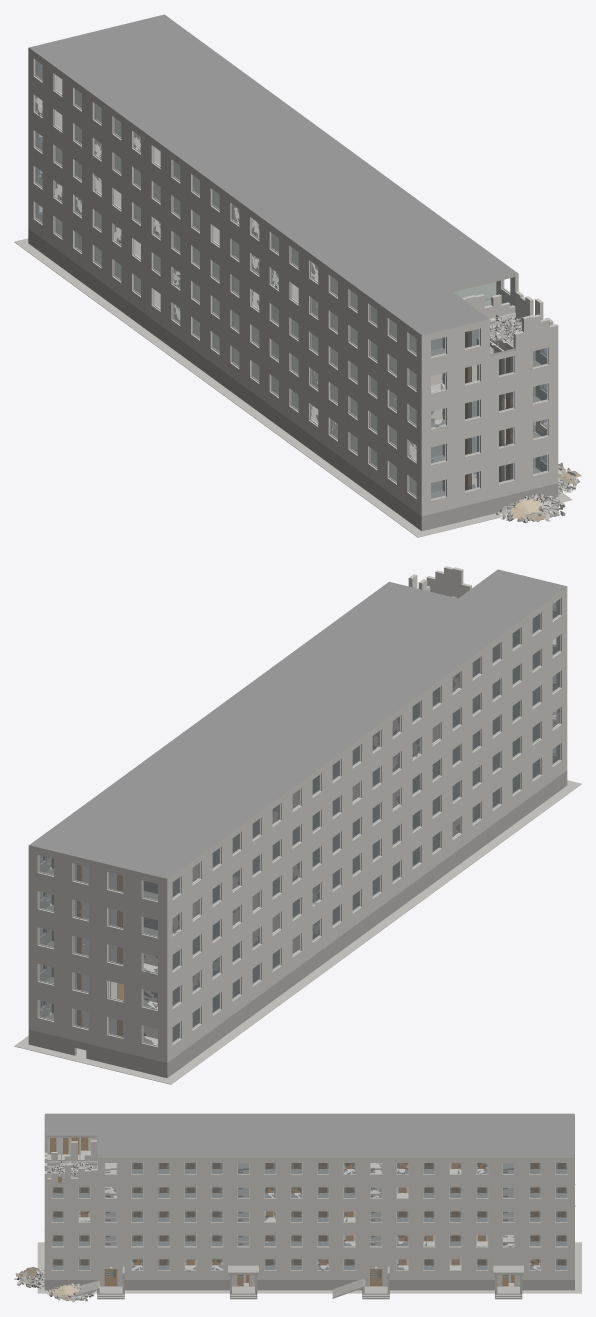
3 views of the same model, one above another, from view 1: azimuth 30°, elevation 25°; view 2: azimuth 150°, elevation 25°; view 3: azimuth 270°, elevation 25° (orthographic). The views are drawn at different scales.
Visible parts, largest first — view 1: b5_slab_f05__roof, b5_outer_f04__facade_panel, b5_outer_f02__facade_panel, b5_outer_f01__facade_panel, b5_outer_f03__facade_panel, b5_outer_f00__facade_panel, b5_outer_f00__plinth, b5_apron_f00, b5_glass_f00, b5_glass_f02, b5_glass_f01, b5_glass_f04 (+14 smaller); view 2: b5_slab_f05__roof, b5_outer_f04__facade_panel, b5_outer_f02__facade_panel, b5_outer_f01__facade_panel, b5_outer_f00__facade_panel, b5_outer_f03__facade_panel, b5_outer_f00__plinth, b5_apron_f00, b5_glass_f04, b5_glass_f00, b5_glass_f02, b5_glass_f03 (+12 smaller); view 3: b5_slab_f05__roof, b5_outer_f04__facade_panel, b5_outer_f00__facade_panel, b5_outer_f02__facade_panel, b5_outer_f03__facade_panel, b5_outer_f01__facade_panel, b5_outer_f00__plinth, b5_glass_f02, b5_glass_f03, b5_apron_f00, b5_glass_f01, b5_porch_f00__monolith (+26 smaller).
Part boxes in pixels (box(x1,y1,x2,y2)): b5_slab_f05__roof: box(29, 14, 517, 335); b5_outer_f04__facade_panel: box(28, 48, 558, 373); b5_outer_f02__facade_panel: box(28, 121, 558, 444); b5_outer_f01__facade_panel: box(28, 157, 558, 480); b5_outer_f03__facade_panel: box(28, 86, 558, 409); b5_outer_f00__facade_panel: box(28, 193, 558, 516); b5_outer_f00__plinth: box(28, 228, 558, 531); b5_apron_f00: box(14, 238, 571, 537); b5_glass_f00: box(35, 203, 547, 498); b5_glass_f02: box(35, 132, 547, 427); b5_glass_f01: box(35, 167, 547, 463); b5_glass_f04: box(35, 60, 478, 356); b5_slab_f05__roof: box(29, 569, 566, 878); b5_outer_f04__facade_panel: box(28, 566, 567, 917); b5_outer_f02__facade_panel: box(28, 662, 567, 990); b5_outer_f01__facade_panel: box(28, 698, 567, 1026); b5_outer_f00__facade_panel: box(28, 734, 567, 1062); b5_outer_f03__facade_panel: box(28, 625, 567, 953); b5_outer_f00__plinth: box(28, 770, 567, 1077); b5_apron_f00: box(14, 780, 581, 1084); b5_glass_f04: box(39, 599, 559, 900); b5_glass_f00: box(39, 744, 559, 1044); b5_glass_f02: box(39, 672, 559, 973); b5_glass_f03: box(39, 635, 559, 936); b5_slab_f05__roof: box(45, 1113, 574, 1157); b5_outer_f04__facade_panel: box(44, 1116, 574, 1183); b5_outer_f00__facade_panel: box(44, 1256, 574, 1286); b5_outer_f02__facade_panel: box(44, 1208, 574, 1231); b5_outer_f03__facade_panel: box(44, 1184, 574, 1207); b5_outer_f01__facade_panel: box(44, 1232, 574, 1255); b5_outer_f00__plinth: box(44, 1280, 574, 1290); b5_glass_f02: box(52, 1184, 575, 1221); b5_glass_f03: box(52, 1187, 567, 1197); b5_apron_f00: box(37, 1242, 581, 1293); b5_glass_f01: box(52, 1205, 575, 1247); b5_porch_f00__monolith: box(97, 1266, 522, 1299).
Size of the model in its own units: 16.28 by 17.7 by 64.28.
